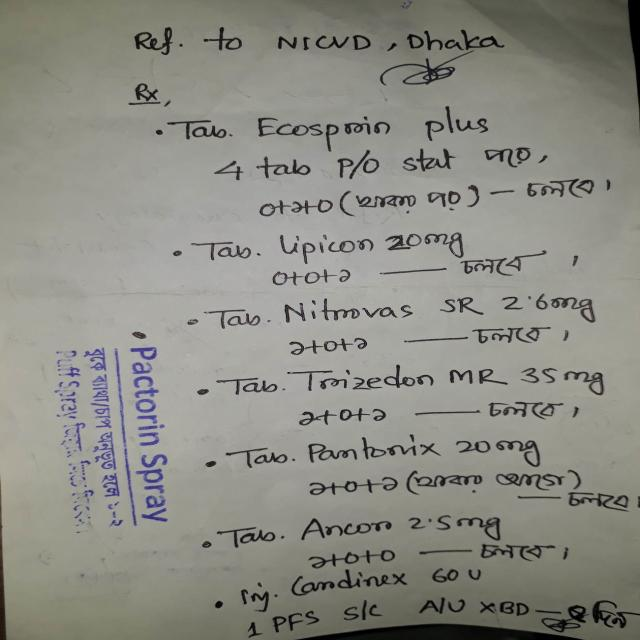Ancor: (285, 509, 402, 544)
Cardinex: (282, 569, 416, 598)
Ecosprin Plus: (250, 107, 496, 142)
Lipicon: (263, 229, 378, 263)
Nitrovas SR: (268, 297, 490, 320)
Pantonix: (297, 437, 449, 467)
Trizedon MR: (281, 361, 507, 398)
